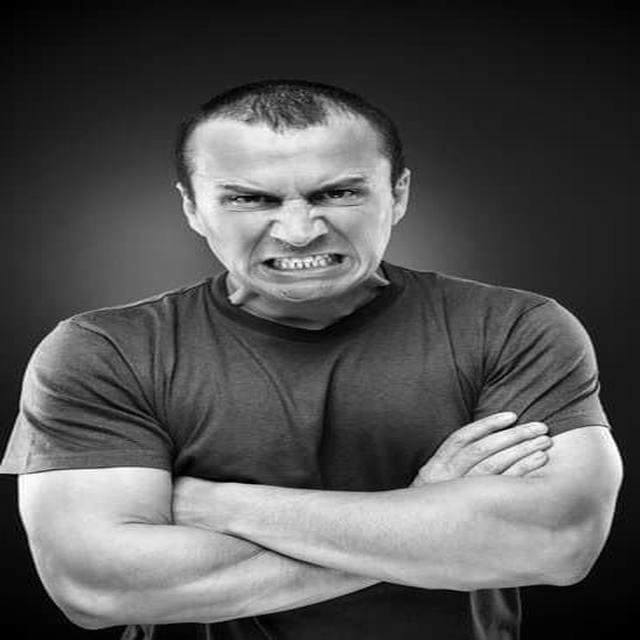Angry: (190, 125, 391, 305)
